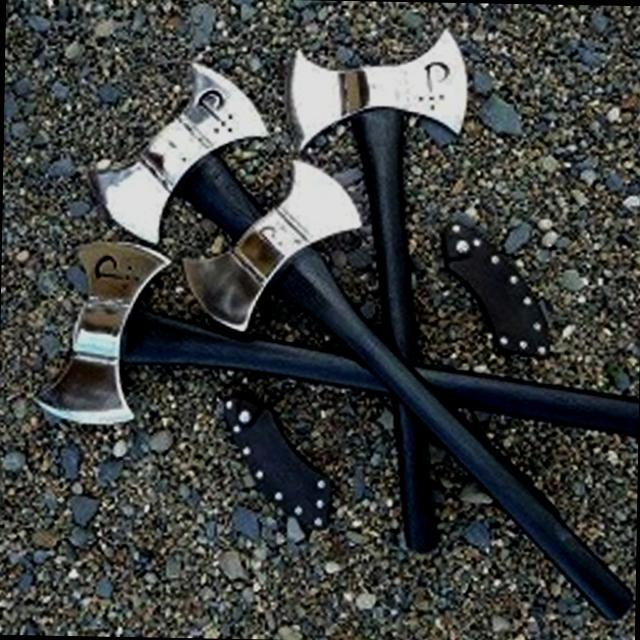ax: (27, 222, 640, 444), (268, 22, 481, 568)
